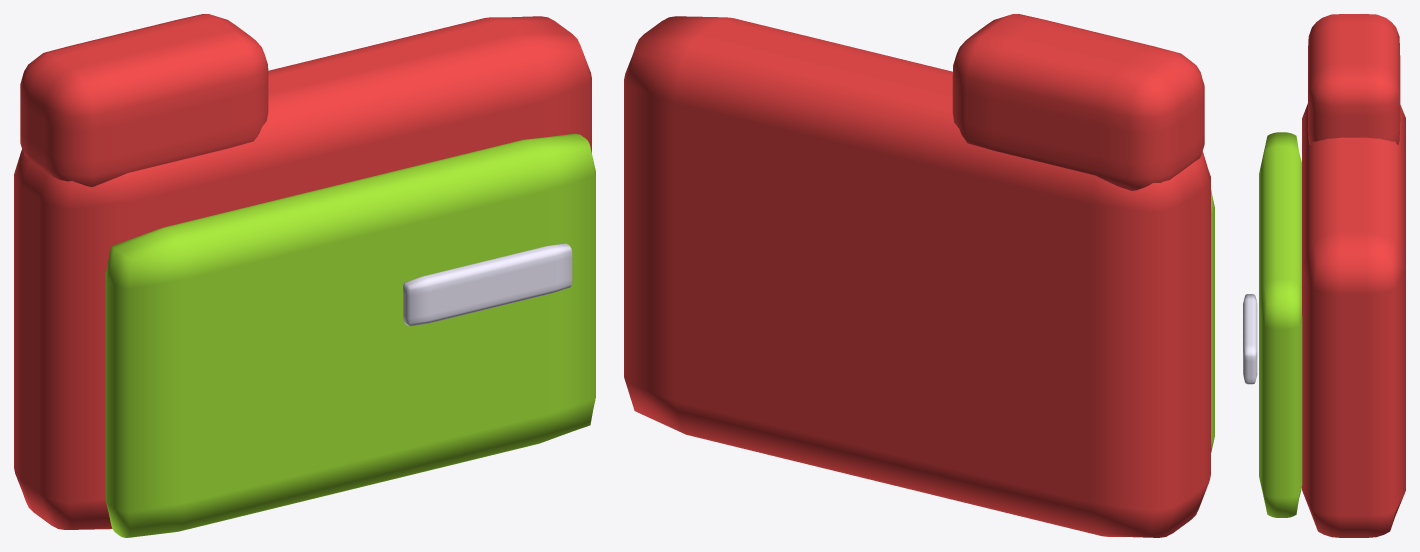
The model's file is bad-palette.glb.
3 renders of one model, left to right at view 1: azimuth 30°, elevation 25°; view 2: azimuth 150°, elevation 25°; view 3: azimuth 270°, elevation 25°, orthographic. The views are drawn at different scales.
Visible parts, largest first — view 1: bad-palette; view 2: bad-palette; view 3: bad-palette.
Boxes of the visible parts, bbox=[...] form: bad-palette: bbox=[14, 14, 595, 537]; bad-palette: bbox=[624, 14, 1214, 537]; bad-palette: bbox=[1243, 14, 1405, 537].
Bounding box in the file's own units: 1.65 × 1.34 × 0.565.
